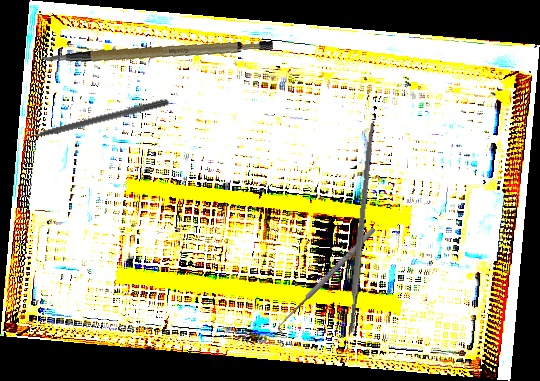Hook Surgical: (273, 224, 381, 337)
Pusher: (11, 96, 170, 145)
Scalpel Handle: (39, 17, 274, 82), (345, 120, 377, 335)
